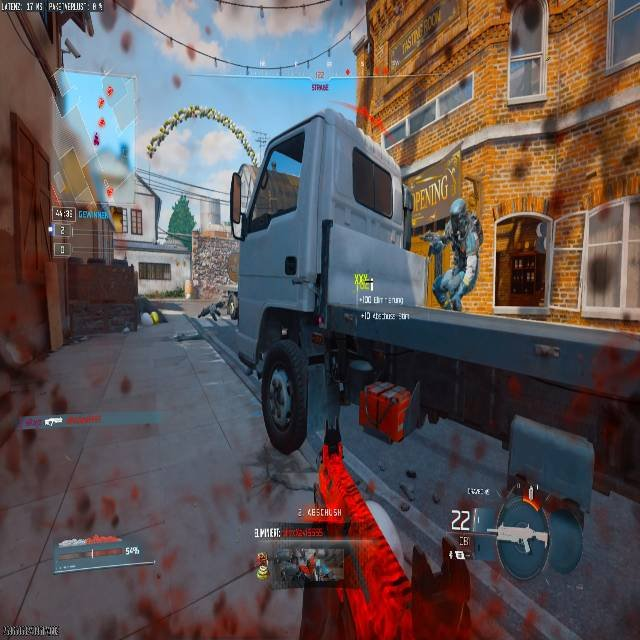head: (449, 198, 467, 219)
player: (422, 197, 483, 312)
